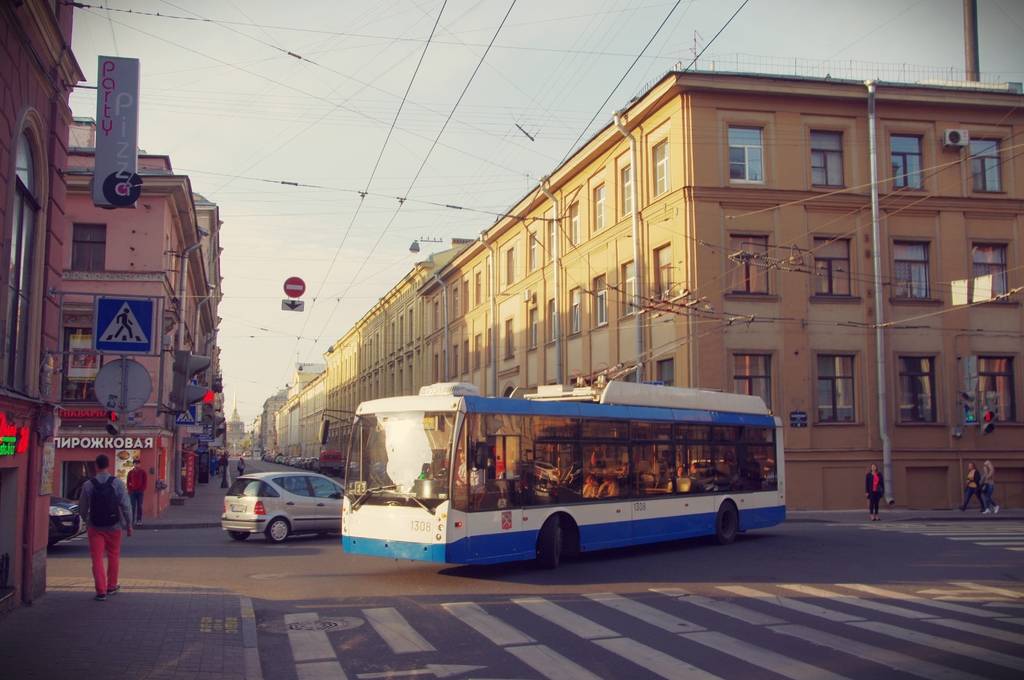Car: (213, 472, 343, 547), (46, 496, 87, 551), (262, 449, 316, 469), (347, 460, 359, 473)
